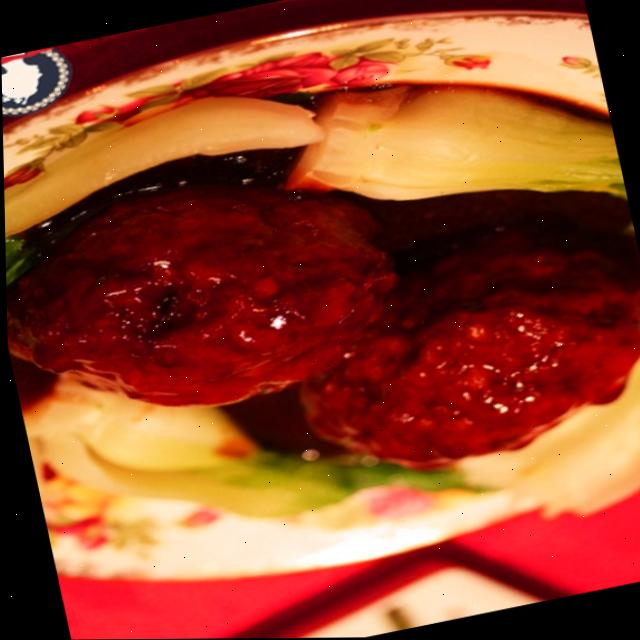猪肉菜式: (0, 17, 640, 608)
